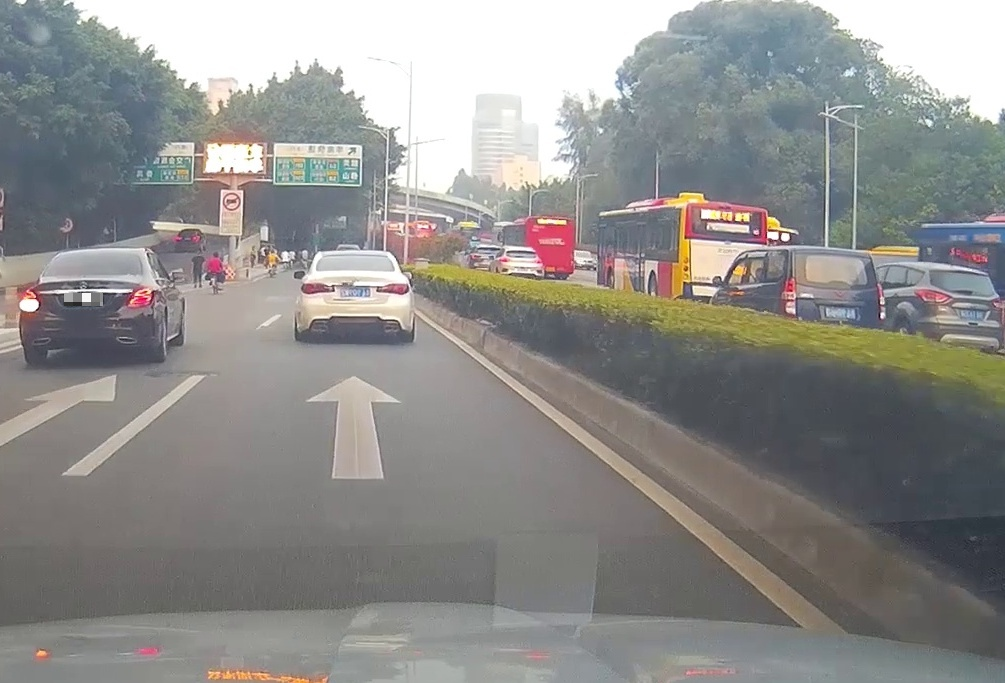L_light: (20, 289, 41, 313), (914, 289, 951, 302), (784, 277, 796, 316), (300, 283, 335, 294), (500, 257, 509, 262)
R_light: (128, 286, 155, 308), (376, 282, 410, 295), (876, 282, 885, 320), (992, 297, 1003, 308), (534, 258, 542, 263)
T_light: (89, 251, 108, 257), (956, 270, 971, 276), (829, 253, 843, 259), (347, 254, 363, 259), (518, 250, 524, 252)
day-left: (19, 247, 157, 364)
day-no: (294, 250, 415, 341), (781, 246, 885, 330), (914, 262, 1004, 353), (500, 246, 544, 279)
plate_1: (64, 293, 103, 306)
